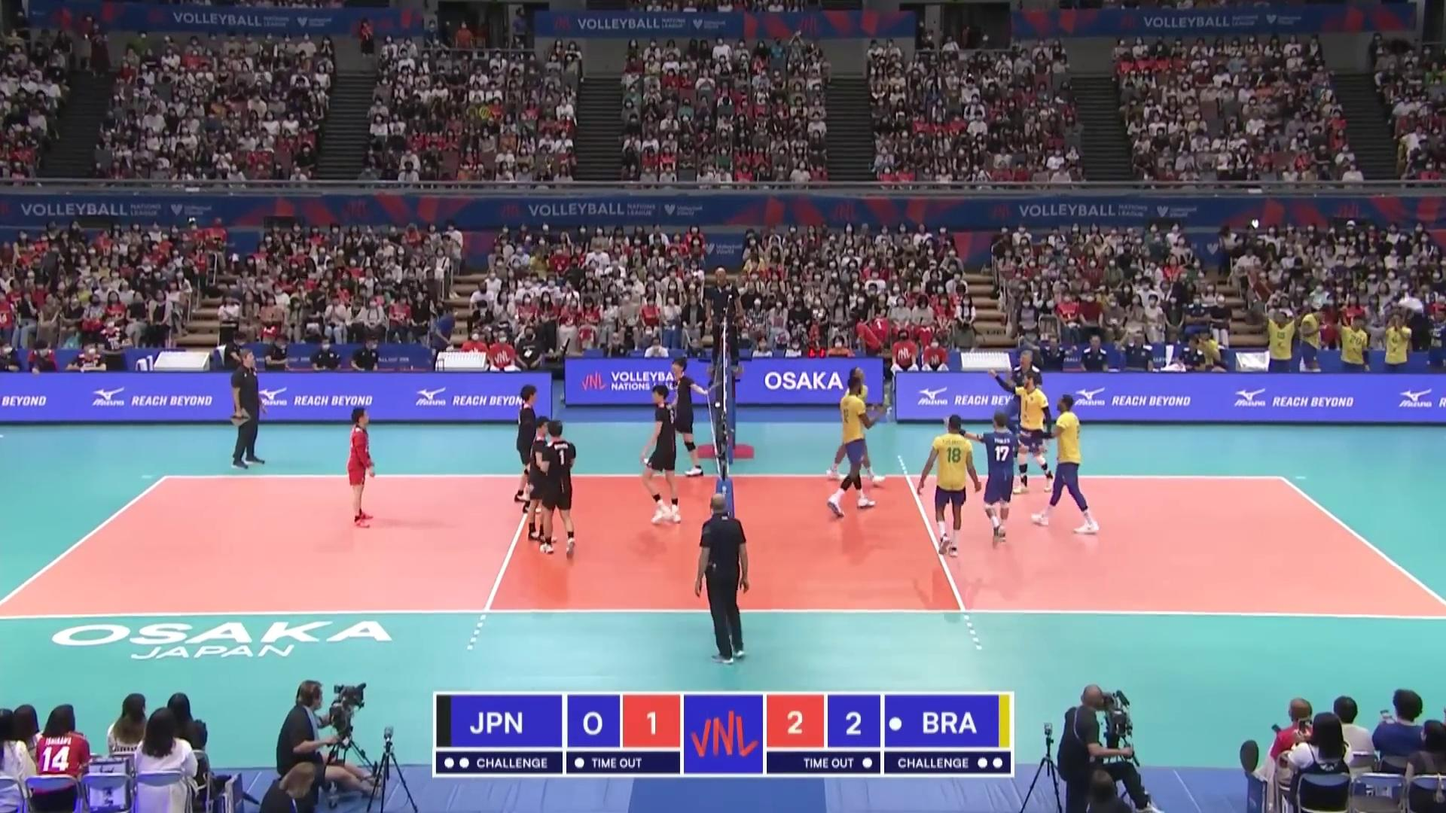player: (1034, 396, 1097, 532), (918, 417, 978, 558), (992, 369, 1055, 494), (829, 376, 877, 514), (829, 368, 885, 485), (973, 413, 1019, 548), (640, 386, 683, 529), (659, 358, 705, 476), (541, 420, 577, 559), (514, 385, 547, 512), (345, 408, 379, 527), (529, 416, 556, 545)
refree: (696, 494, 752, 658), (705, 268, 743, 379)
